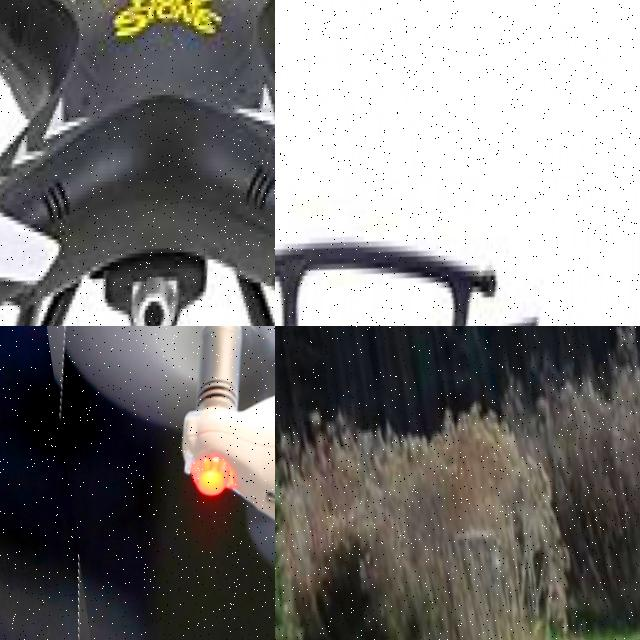drone: (0, 0, 275, 326), (15, 326, 275, 640), (275, 114, 640, 326)
